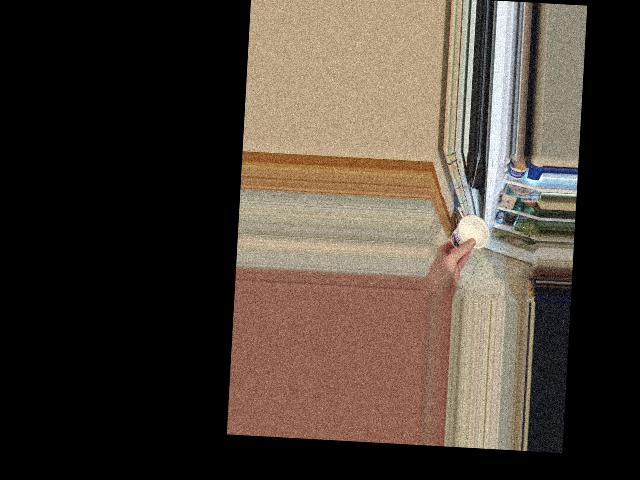cotage: (448, 210, 491, 254)
